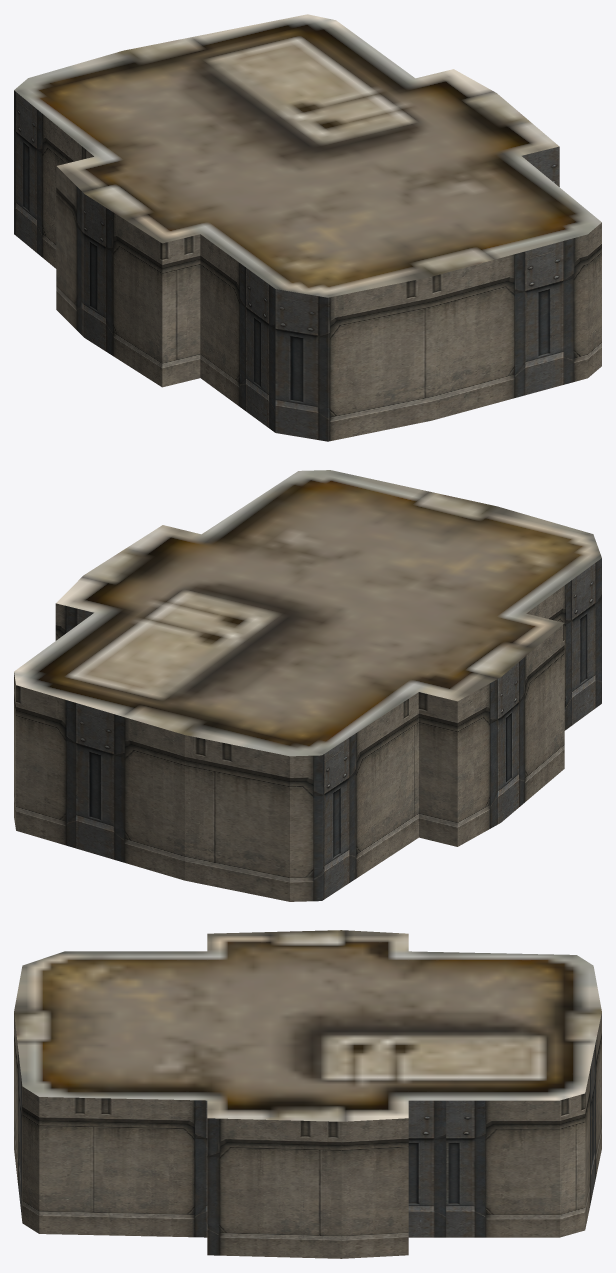
The model's file is building_single_heavy_2.glb.
3 renders of one model, top to bottom at view 1: azimuth 30°, elevation 25°; view 2: azimuth 150°, elevation 25°; view 3: azimuth 270°, elevation 25°, orthographic. The views are drawn at different scales.
Visible parts, largest first — view 1: buildings/saxarba/building_single/building_single_heavy_2; view 2: buildings/saxarba/building_single/building_single_heavy_2; view 3: buildings/saxarba/building_single/building_single_heavy_2.
Part boxes in pixels (left/top/right/bottom): buildings/saxarba/building_single/building_single_heavy_2: left=14, top=14, right=601, bottom=441; buildings/saxarba/building_single/building_single_heavy_2: left=14, top=470, right=601, bottom=901; buildings/saxarba/building_single/building_single_heavy_2: left=14, top=930, right=601, bottom=1258.
Bounding box in the file's own units: 54 × 18 × 70.
